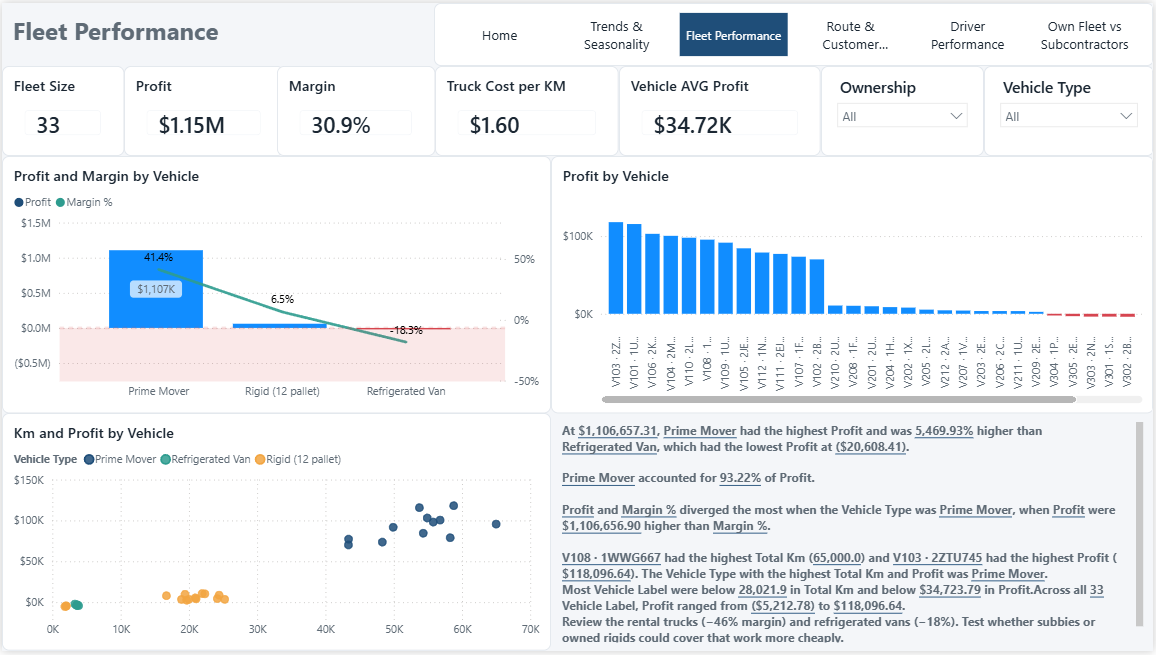

The page's visual inventory and layout, read from the dashboard file:
{"tool":"powerbi","page":{"name":"Fleet Performance","canvas":[1280,720],"ordinal":2},"visuals":[{"type":"cardVisual","title":"Fleet Size","fields":{"Data":["_Measure.Fleet Size"]},"box":[0,70,135.6,100],"z":0},{"type":"cardVisual","title":"Profit","fields":{"Data":["_Measure.Profit"]},"box":[135.6,70,177.8,100],"z":1000},{"type":"cardVisual","title":"Margin","fields":{"Data":["_Measure.Margin %"]},"box":[305.6,70,175.6,100],"z":2000},{"type":"scatterChart","title":"Km and Profit by Vehicle","fields":{"Category":["dim_vehicle.Vehicle Label"],"Series":["dim_vehicle.Vehicle Type"],"X":["_Measure.Total Km"],"Y":["_Measure.Profit"]},"box":[0,455.6,610,264.4],"z":3000},{"type":"slicer","fields":{"Values":["dim_vehicle.Ownership"]},"box":[910,70,181.2,100],"z":4000},{"type":"slicer","fields":{"Values":["dim_vehicle.Vehicle Type"]},"box":[1091.2,70,188.8,100],"z":6000},{"type":"textbox","box":[0,2.1,602.4,73],"z":7000},{"type":"cardVisual","title":"Vehicle AVG Profit","fields":{"Data":["_Measure.Avg Profit per Vehicle"]},"box":[685.6,70,224.4,100],"z":9000},{"type":"cardVisual","title":"Truck Cost per KM","fields":{"Data":["_Measure.Truck Cost per Km"]},"box":[481.1,70,204.4,100],"z":10000},{"type":"lineClusteredColumnComboChart","title":"Profit and Margin by Vehicle ","fields":{"Category":["dim_vehicle.Vehicle Type"],"Y":["_Measure.Profit"],"Y2":["_Measure.Margin %"]},"box":[0,170,610,285.6],"z":11000},{"type":"clusteredColumnChart","title":"Profit by Vehicle","fields":{"Category":["dim_vehicle.Vehicle Label"],"Y":["_Measure.Profit"]},"box":[610,170,670,285.6],"z":12000},{"type":"textbox","box":[610,455,670,265],"z":12001},{"type":"pageNavigator","box":[480,0,800,70],"z":12002}]}

Visuals, with their boxes in screenshot pixels (x1, y1, x2, y2), scaled from the page's 1280x720 canvas onto the 1156x655 screenshot:
"Fleet Size" cardVisual: detection(0, 64, 122, 155)
"Profit" cardVisual: detection(122, 64, 283, 155)
"Margin" cardVisual: detection(276, 64, 435, 155)
"Km and Profit by Vehicle" scatterChart: detection(0, 414, 551, 654)
slicer - dim_vehicle.Ownership: detection(822, 64, 985, 155)
slicer - dim_vehicle.Vehicle Type: detection(985, 64, 1155, 155)
textbox: detection(0, 2, 544, 68)
"Vehicle AVG Profit" cardVisual: detection(619, 64, 822, 155)
"Truck Cost per KM" cardVisual: detection(434, 64, 619, 155)
"Profit and Margin by Vehicle " lineClusteredColumnComboChart: detection(0, 155, 551, 414)
"Profit by Vehicle" clusteredColumnChart: detection(551, 155, 1155, 414)
textbox: detection(551, 414, 1155, 654)
pageNavigator: detection(434, 0, 1155, 64)
